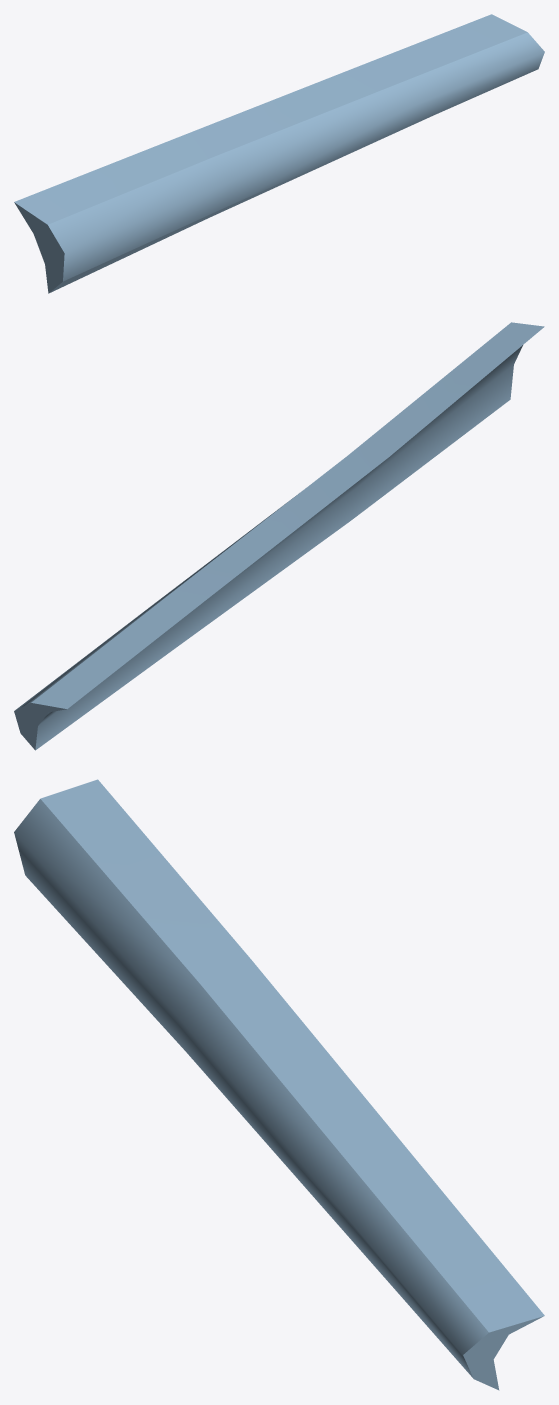
File: big wing slat Dwn L.FBX
3 views of the same model, one above another, from view 1: azimuth 30°, elevation 25°; view 2: azimuth 210°, elevation 25°; view 3: azimuth 270°, elevation 25° (orthographic). The views are drawn at different scales.
Visible parts, largest first — view 1: Group26; view 2: Group26; view 3: Group26.
Part boxes in pixels (<box>): Group26: <box>14,14,544,293</box>; Group26: <box>14,322,544,750</box>; Group26: <box>14,779,544,1390</box>.
Size of the model in its own units: 0.1147 by 0.0607 by 0.0242.
